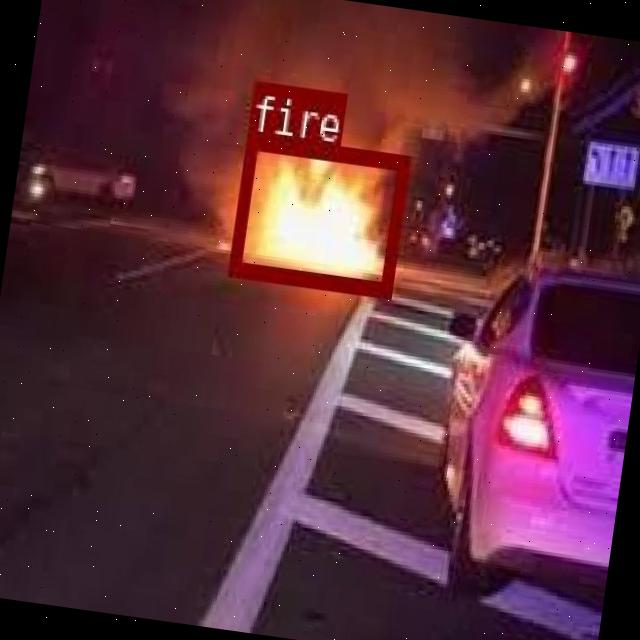fire: (228, 132, 409, 294)
